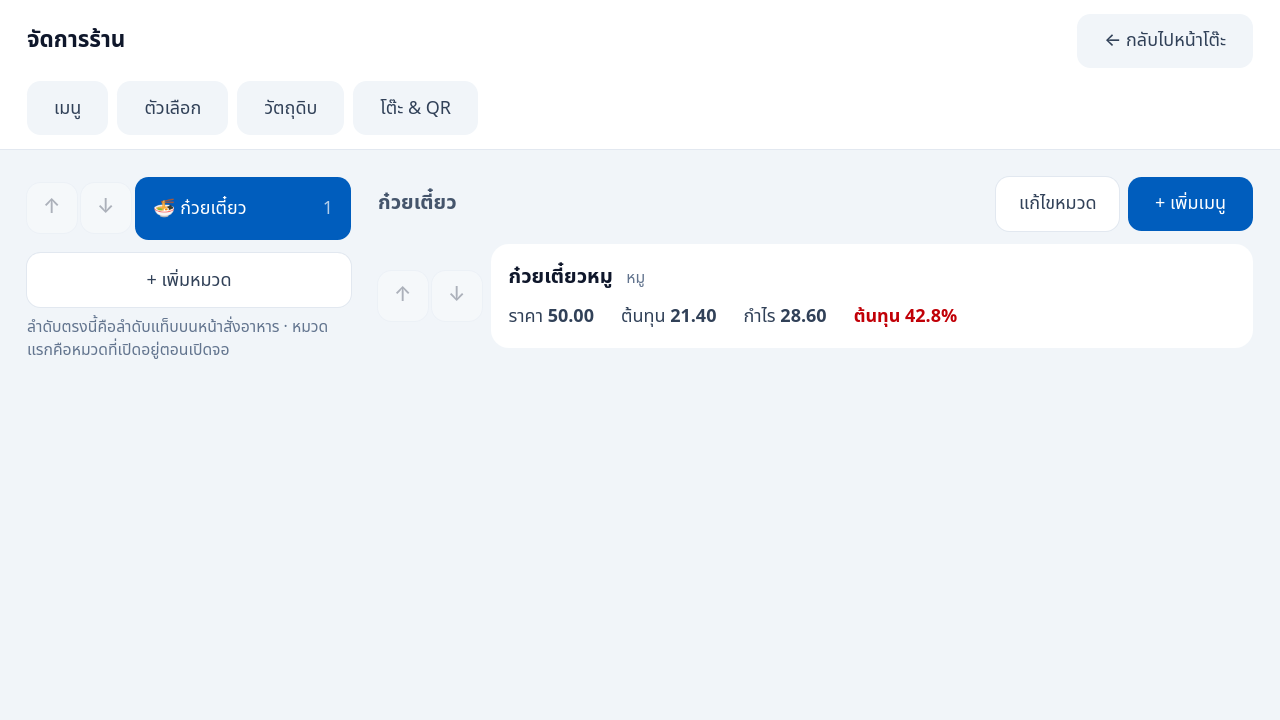
it: categories › does not offer to delete a category that still has dishes in it
This screenshot has width=1280, height=720.
Expected: the navigation bar "หมวด" is shown, [27,176,351,361]
Click the button "แก้ไขหมวด": (1058, 204) [996,176,1119,230]
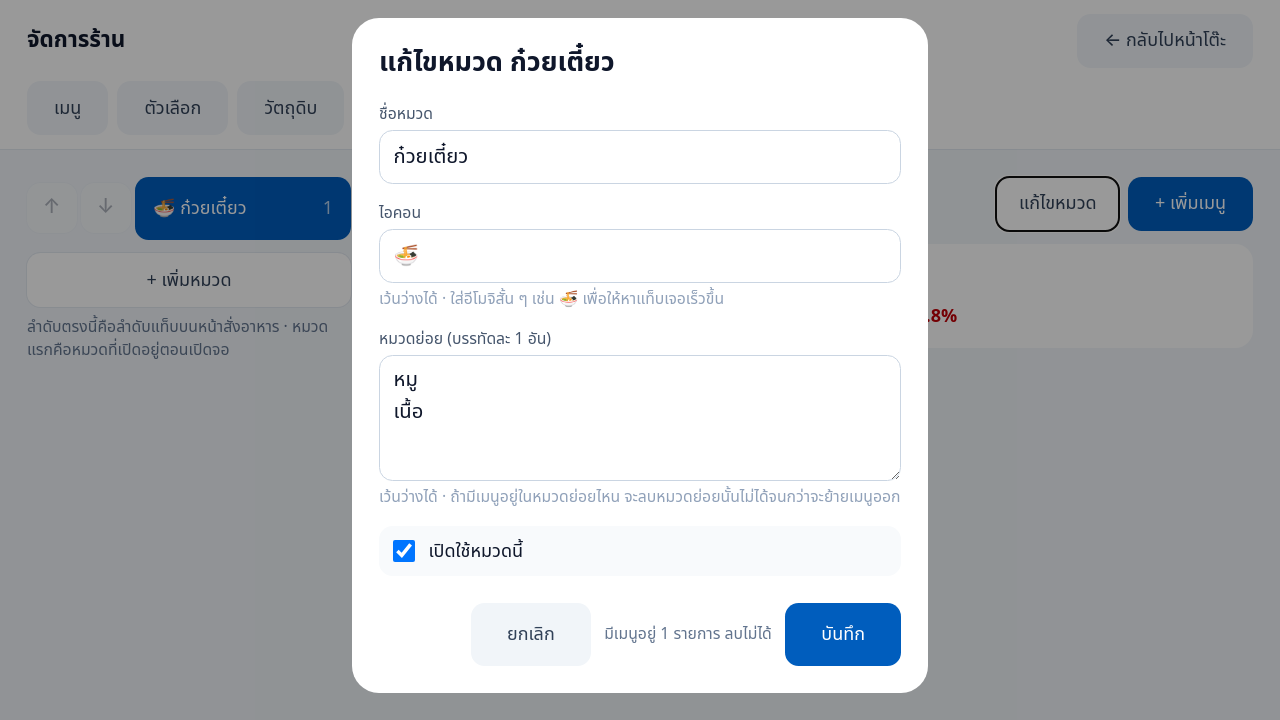
Now the text "มีเมนูอยู่ 1 รายการ ลบไม่ได้" is shown, box [604,622,772,646]
